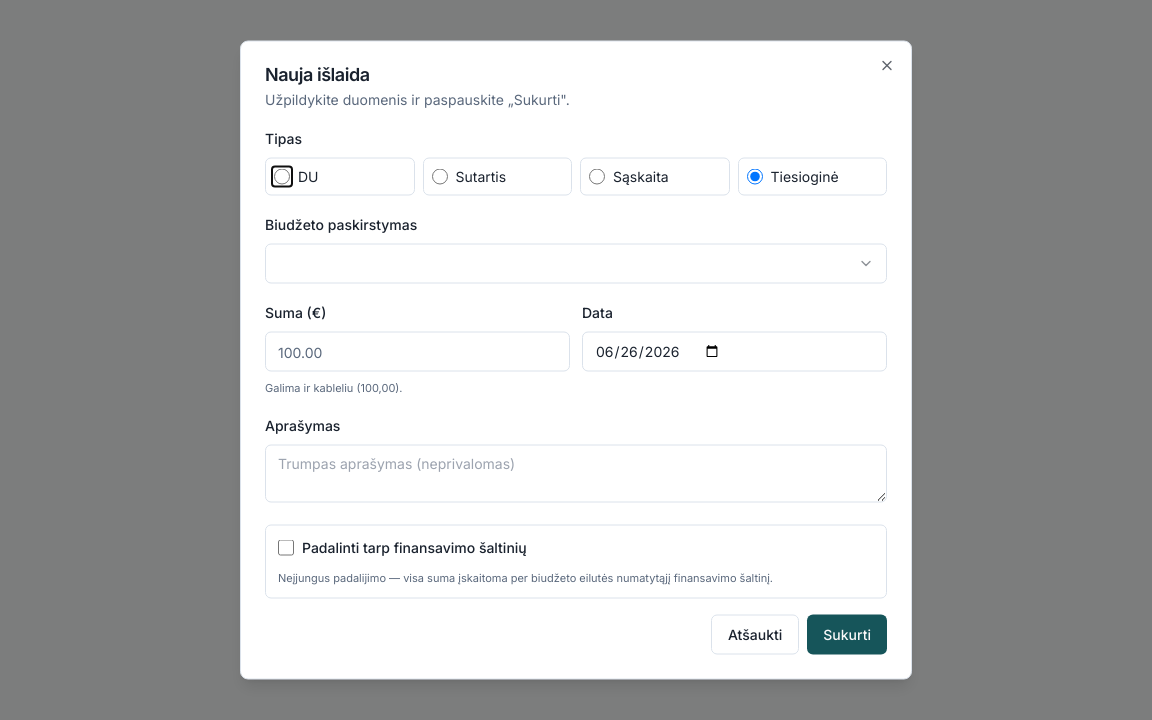
Test: ExpenseDialog › rodo validation klaidą, kai suma 0 arba tuščia
expect the heading "Nauja išlaida" is shown: met, box [265,64,370,84]
Suma palikta tuščia — submit'as turi parodyti validation klaidą.
Click the button "Sukurti" at (847, 634), box [807,614,887,654]
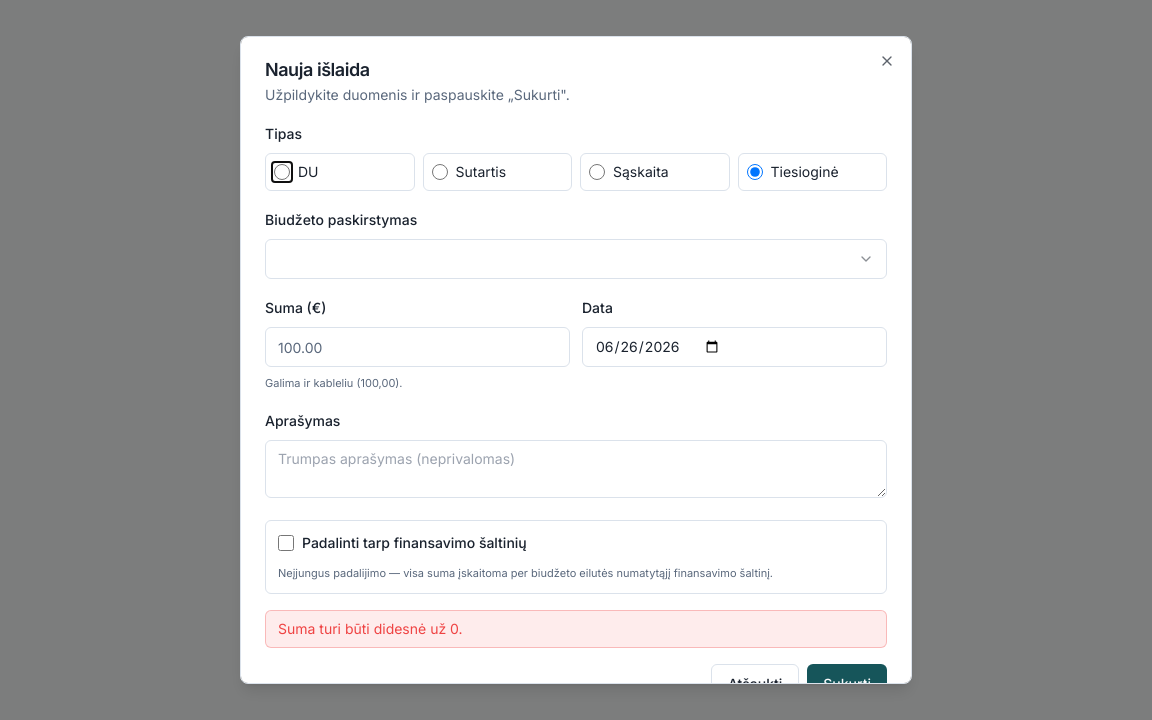
expect the text "Suma turi būti didesnė už 0." is shown: met, box [265,610,887,648]
